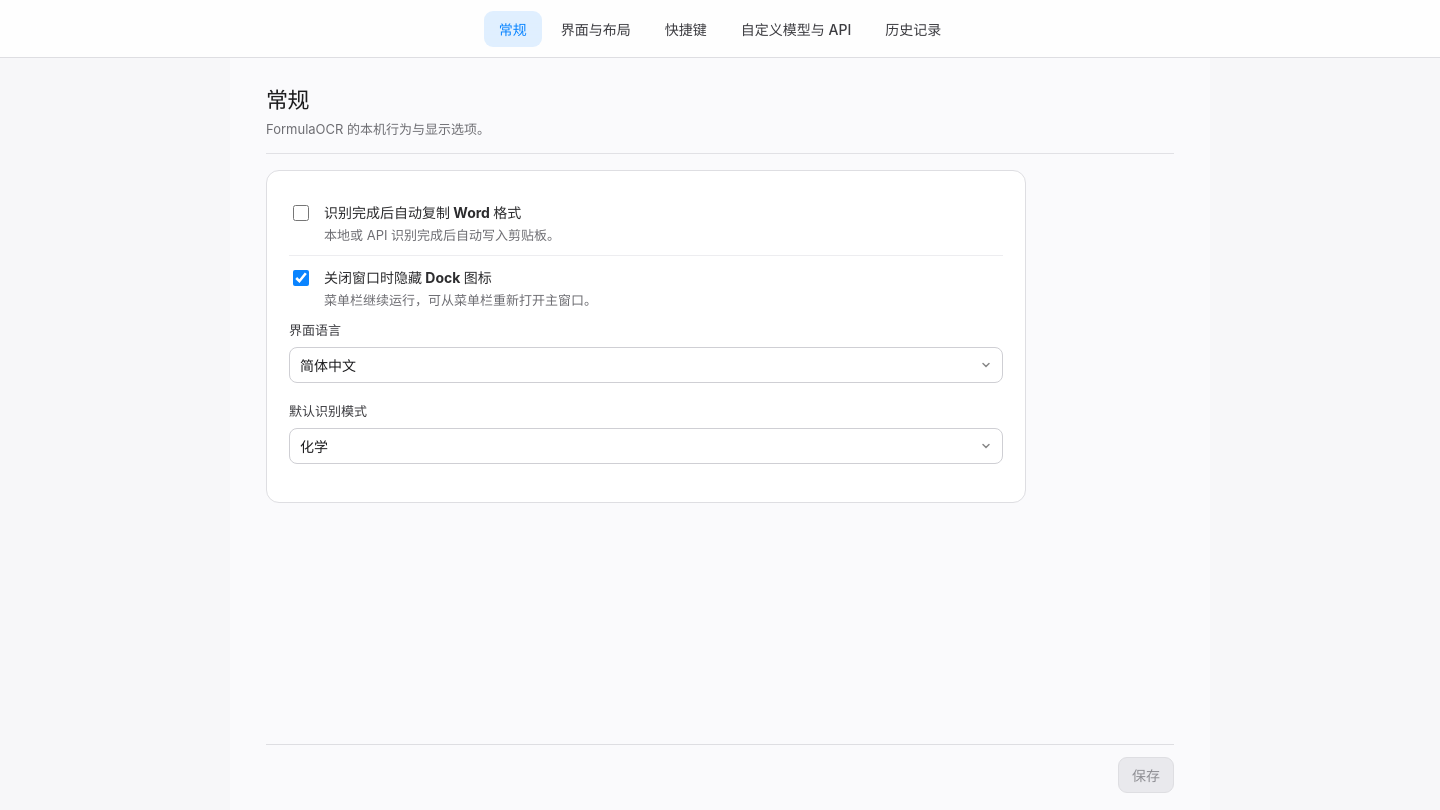
Test: settings interaction › has a fixed-label disabled Save until a real change, including reverting to saved values
Expected: the element that starts with "识别完成后自动复制 Word 格式" is enabled, [266,170,1026,503]
Expected: the button "保存" is disabled, [1118,756,1174,792]
Click the checkbox labelled "识别完成后自动复制 Word 格式 本地或 API 识别完成后自动写入剪贴板。" at {"x": 301, "y": 213}, box [293,205,309,221]
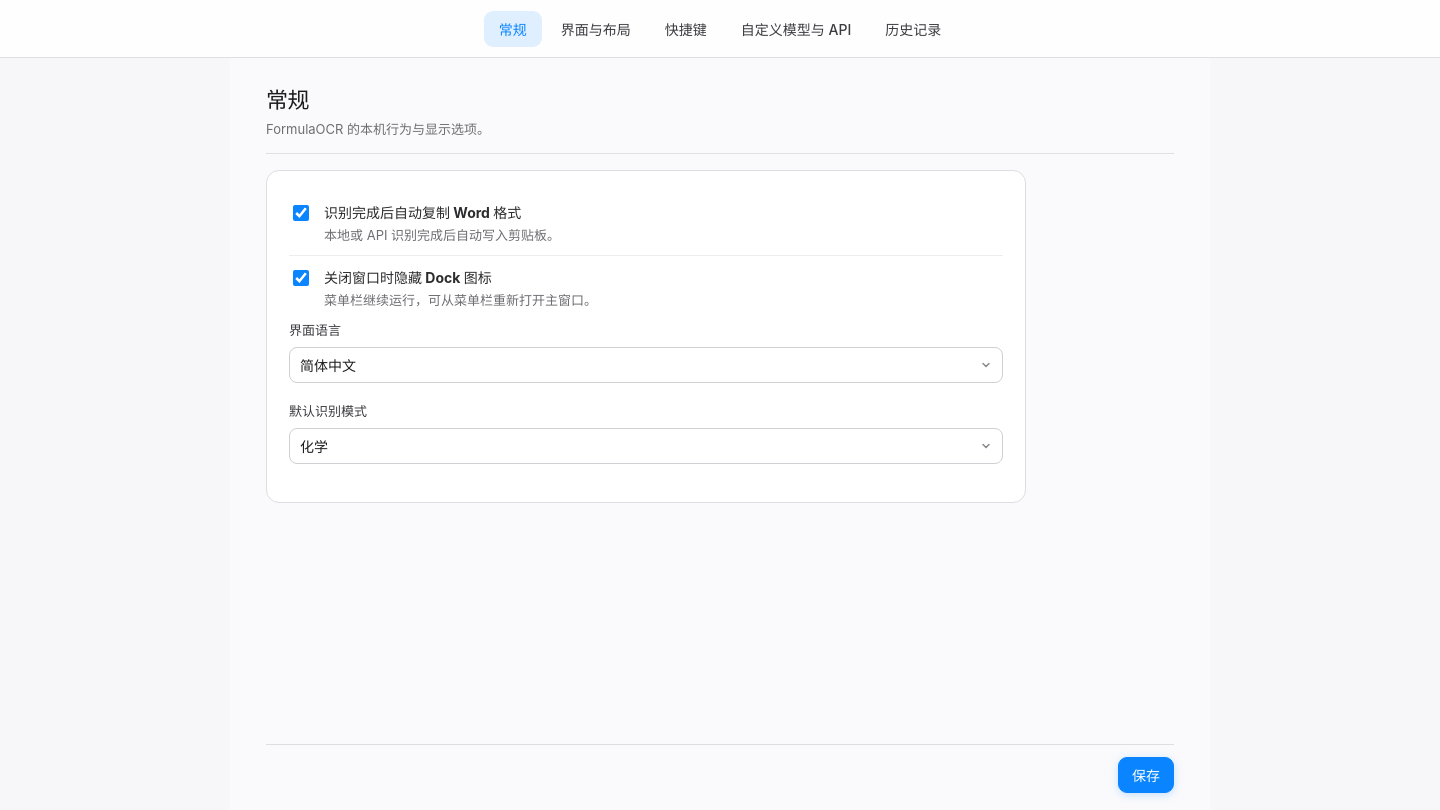
Result: the button "保存" is enabled at [1118,756,1174,792]
Click the checkbox labelled "识别完成后自动复制 Word 格式 本地或 API 识别完成后自动写入剪贴板。" at {"x": 301, "y": 213}, box [293,205,309,221]
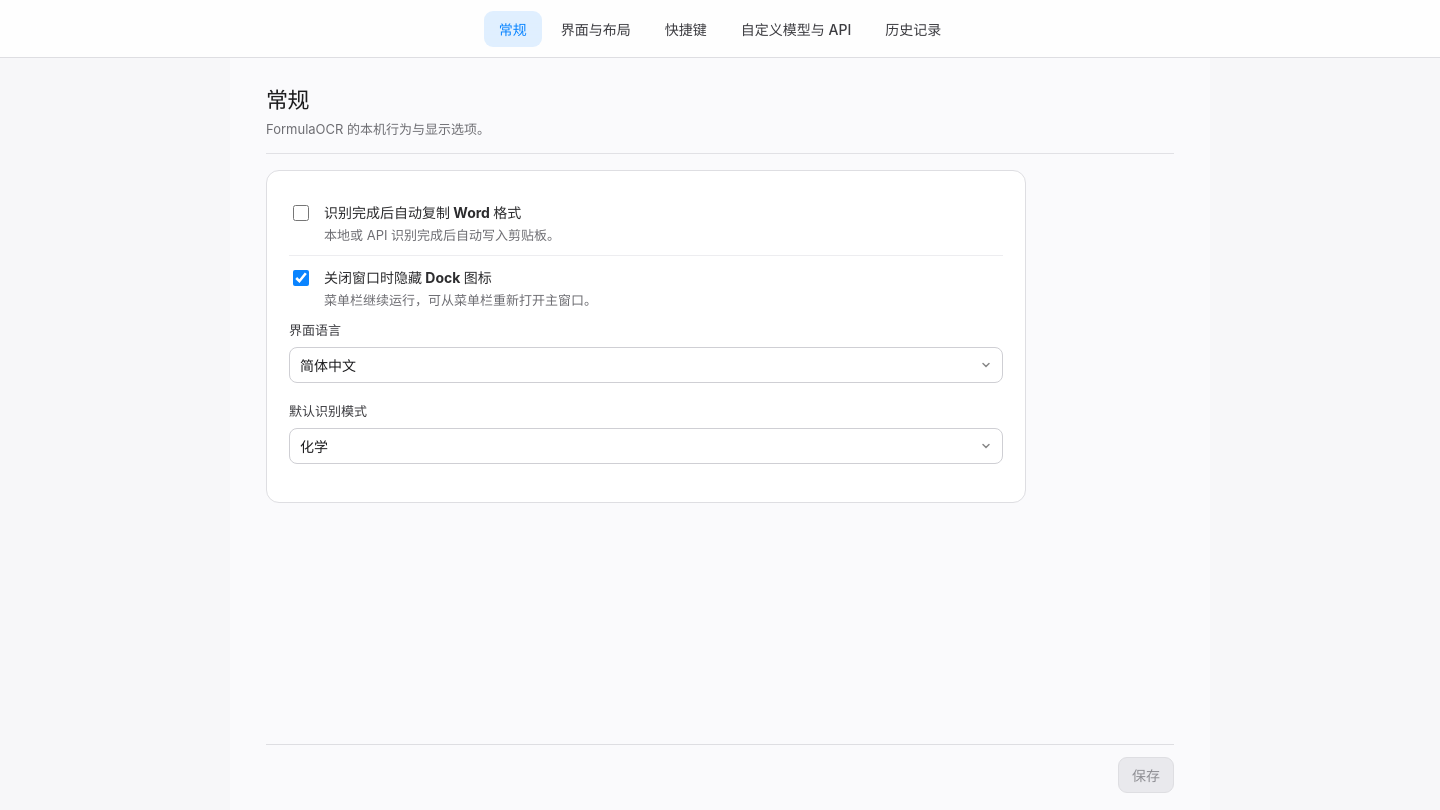
Result: the button "保存" is disabled at [1118,756,1174,792]
